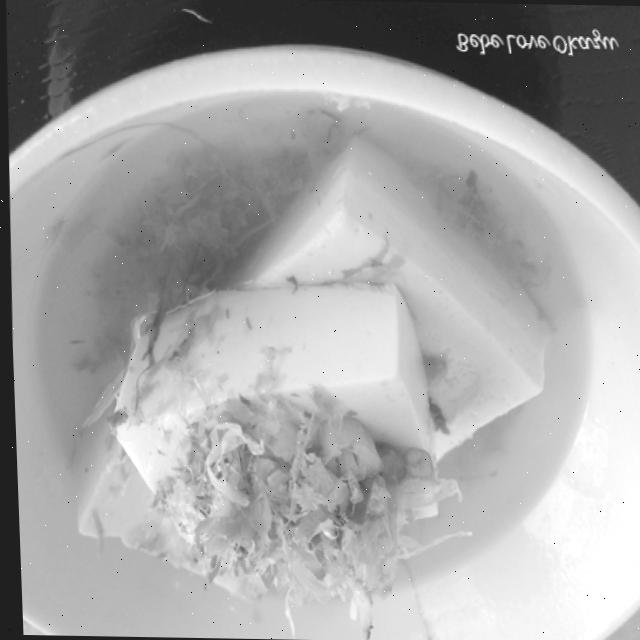豆腐料理: (2, 69, 640, 640)
